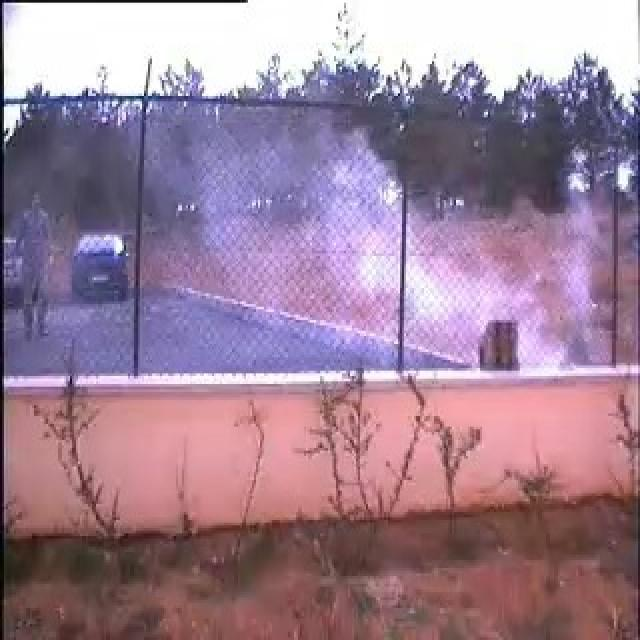Smoke: (328, 144, 592, 368)
